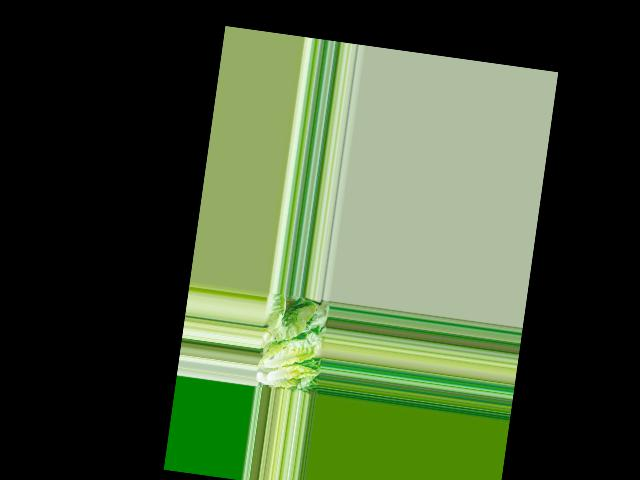lettuce: (254, 324, 321, 392)
